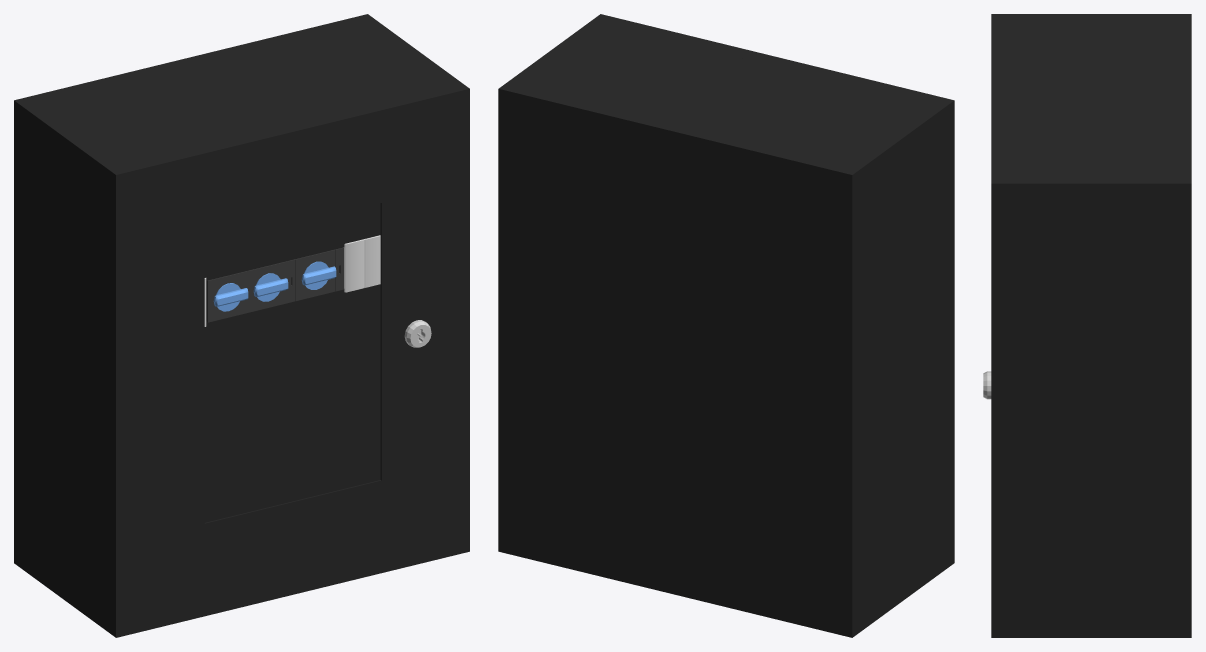
Rendered from BoxModelV10.FBX.
3 renders of one model, left to right at view 1: azimuth 30°, elevation 25°; view 2: azimuth 150°, elevation 25°; view 3: azimuth 270°, elevation 25°, orthographic.
Visible parts, largest first — view 1: Door, Box, InnerPanel, Switch1, Switch003, Switch002; view 2: Box, Door; view 3: Box, Door.
Part boxes in pixels (<box>): Door: <box>106,81,469,637</box>; Box: <box>14,14,459,630</box>; InnerPanel: <box>204,203,380,522</box>; Switch1: <box>206,271,248,322</box>; Switch003: <box>295,249,336,300</box>; Switch002: <box>247,261,288,312</box>; Box: <box>498,21,944,637</box>; Door: <box>591,14,954,570</box>; Box: <box>1011,14,1191,637</box>; Door: <box>983,14,1011,637</box>.
Size of the model in its own units: 40 by 50 by 20.8.
